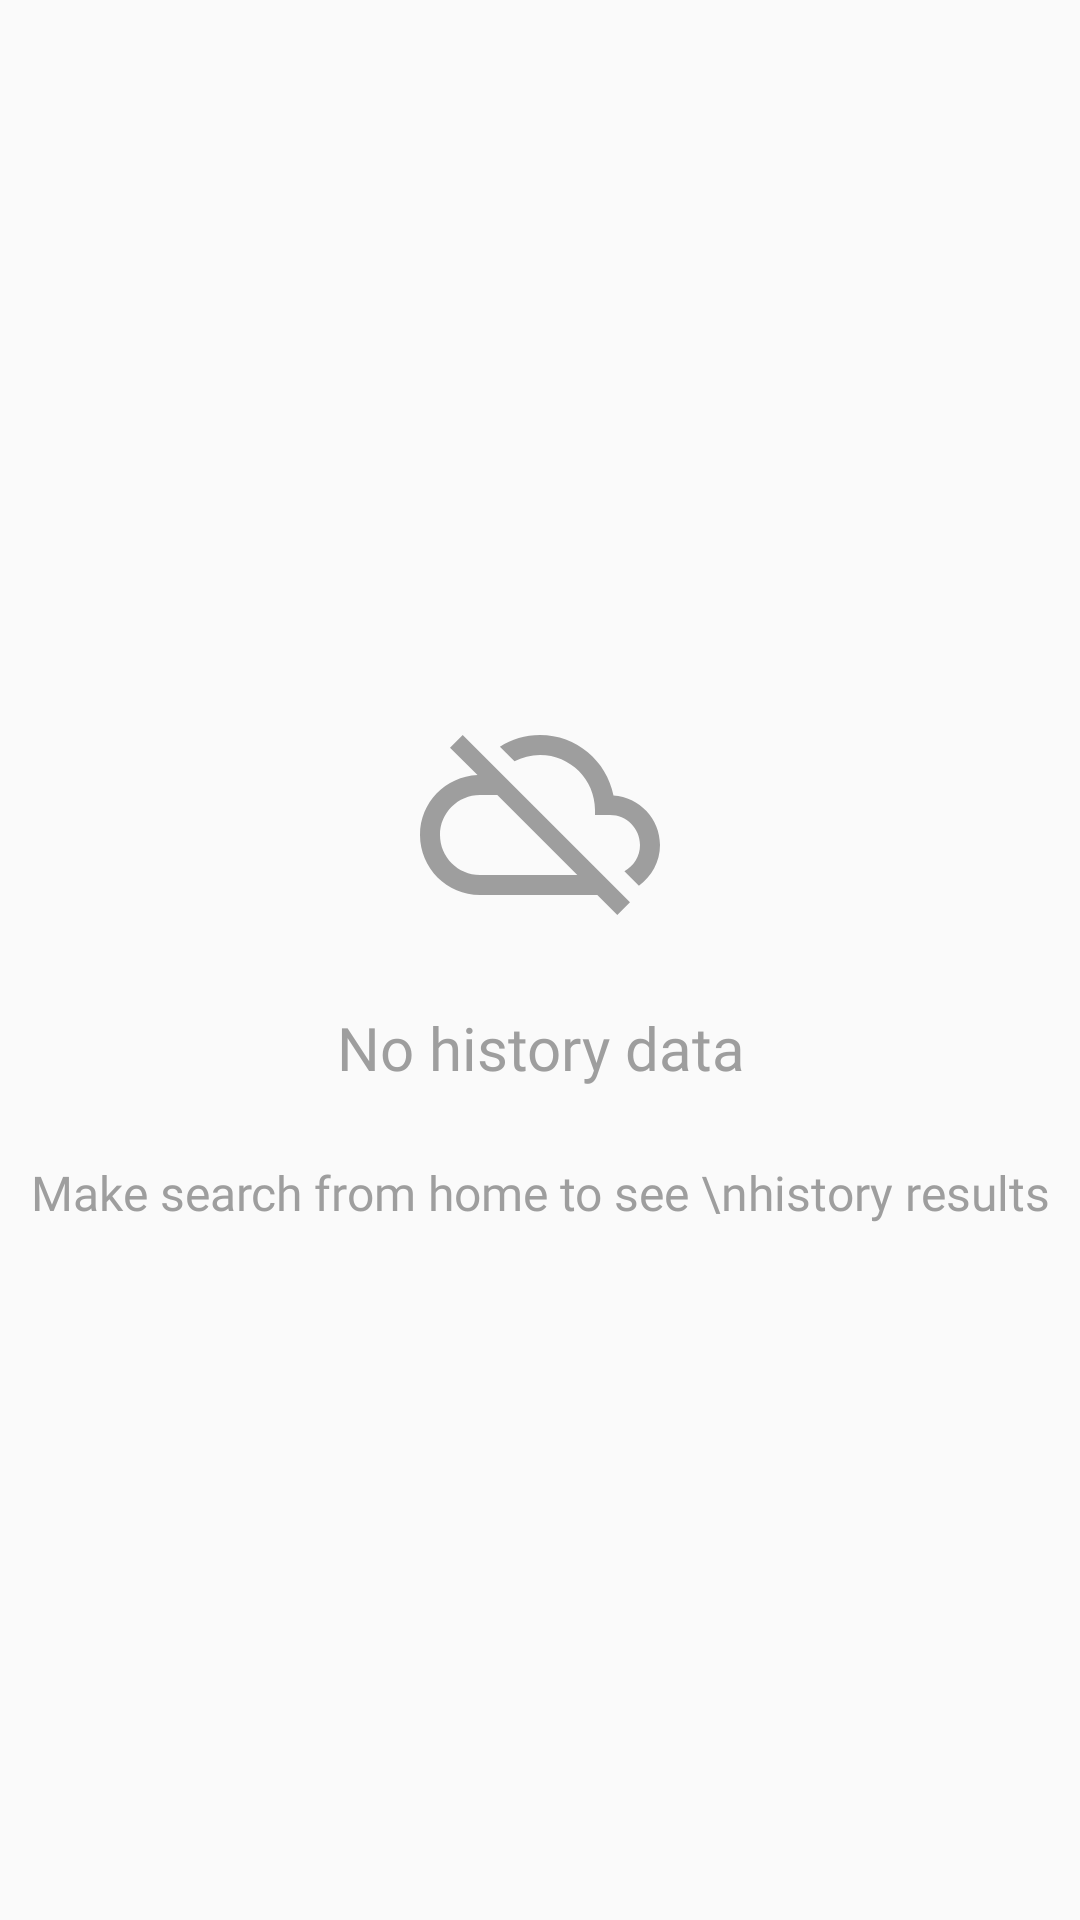

Named icons in this screenshot (1080 x 1920) and their centers, [x,y]:
cloud off: [540,825]
